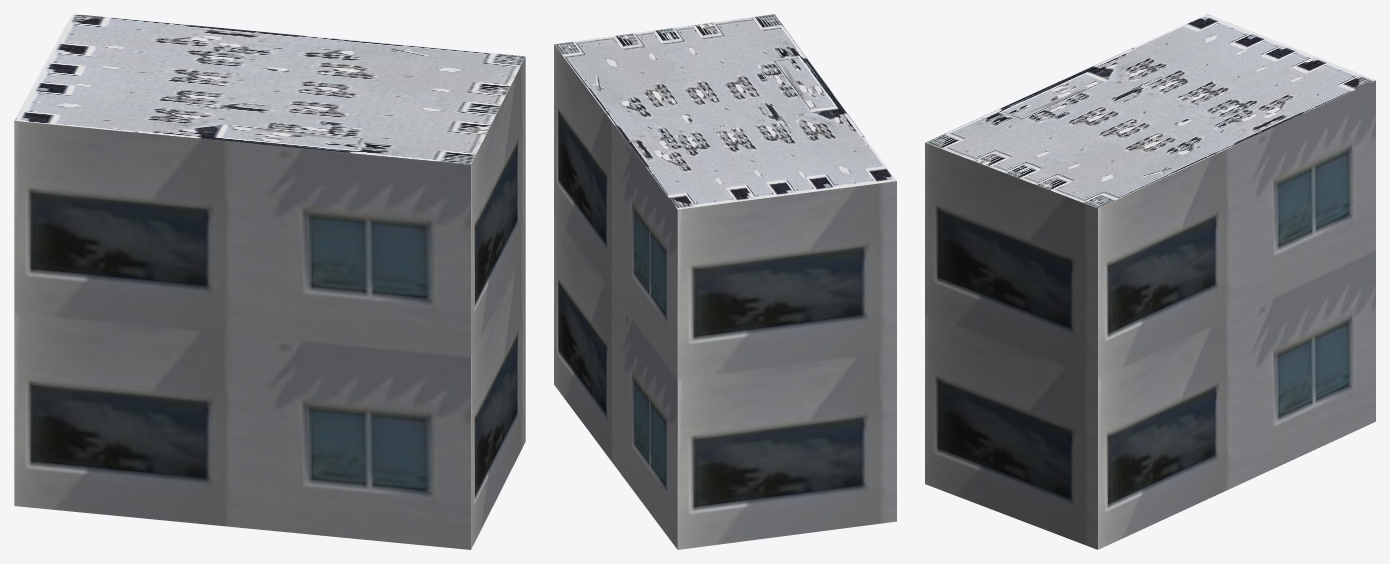
File: ResTex__1707.fbx
3 renders of one model, left to right at view 1: azimuth 30°, elevation 25°; view 2: azimuth 150°, elevation 25°; view 3: azimuth 270°, elevation 25°, orthographic. The views are drawn at different scales.
Visible parts, largest first — view 1: CityEngineMaterial_10_m, CityEngineMaterial_2_m; view 2: CityEngineMaterial_10_m, CityEngineMaterial_2_m; view 3: CityEngineMaterial_10_m, CityEngineMaterial_2_m.
Boxes of the visible parts, left/top/right/bottom form: CityEngineMaterial_10_m: left=14, top=57, right=525, bottom=549; CityEngineMaterial_2_m: left=14, top=14, right=525, bottom=164; CityEngineMaterial_10_m: left=554, top=44, right=896, bottom=549; CityEngineMaterial_2_m: left=554, top=14, right=896, bottom=209; CityEngineMaterial_10_m: left=925, top=80, right=1375, bottom=549; CityEngineMaterial_2_m: left=925, top=14, right=1375, bottom=208.
Bounding box in the file's own units: 7.33 × 6 × 7.18.
2 materials, 2 textured.
